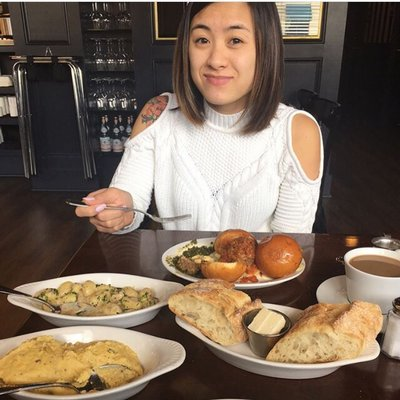pizza: (343, 246, 400, 314)
soup: (167, 278, 259, 346)
sushi: (0, 325, 186, 400), (10, 271, 183, 328), (242, 305, 291, 358)
